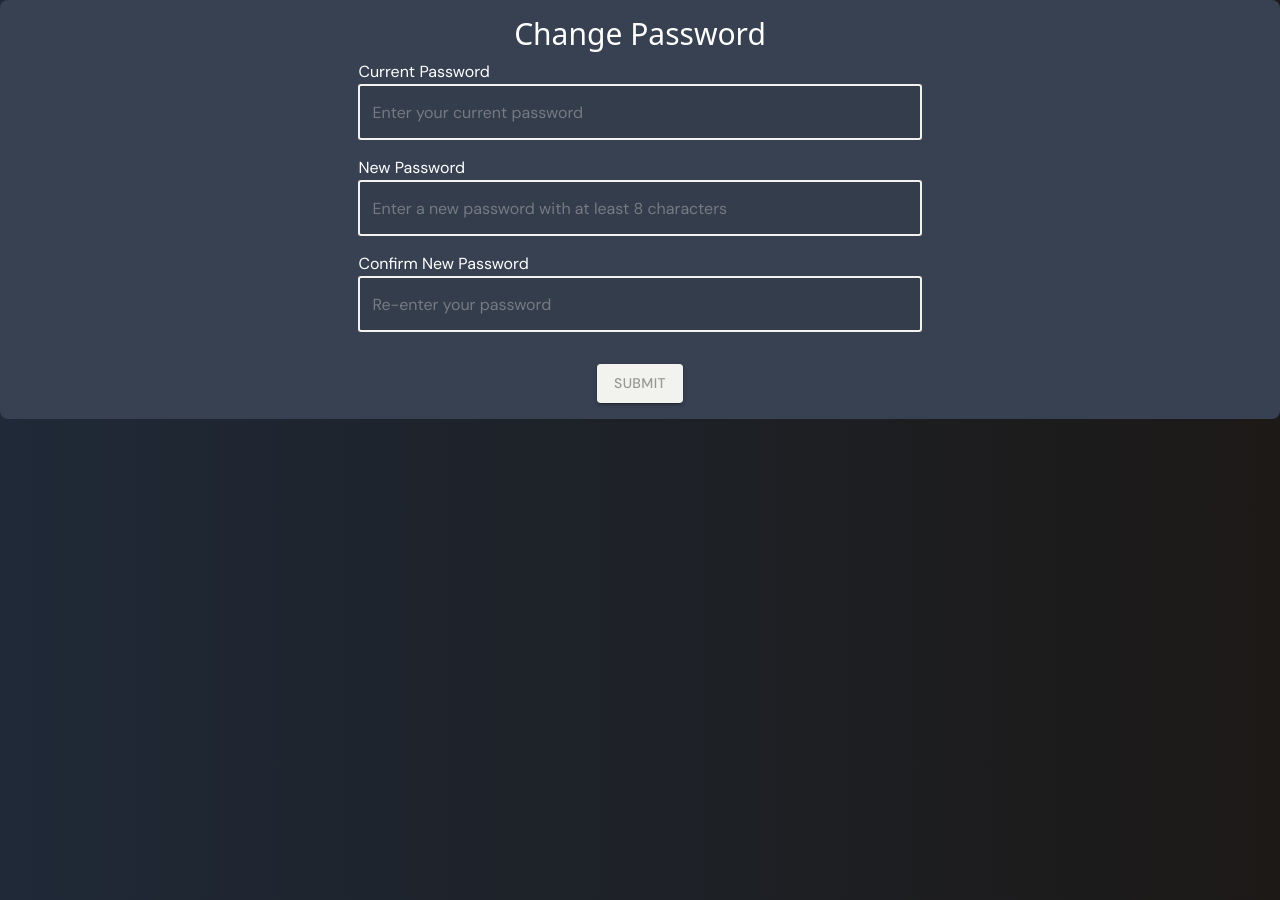
it: ChangePassword › Displays error message when confirm new password does not match with new password
Type "1234678" into the password field labelled "New Password". click: (640, 208)
box: x1=358 y1=180 x2=922 y2=236
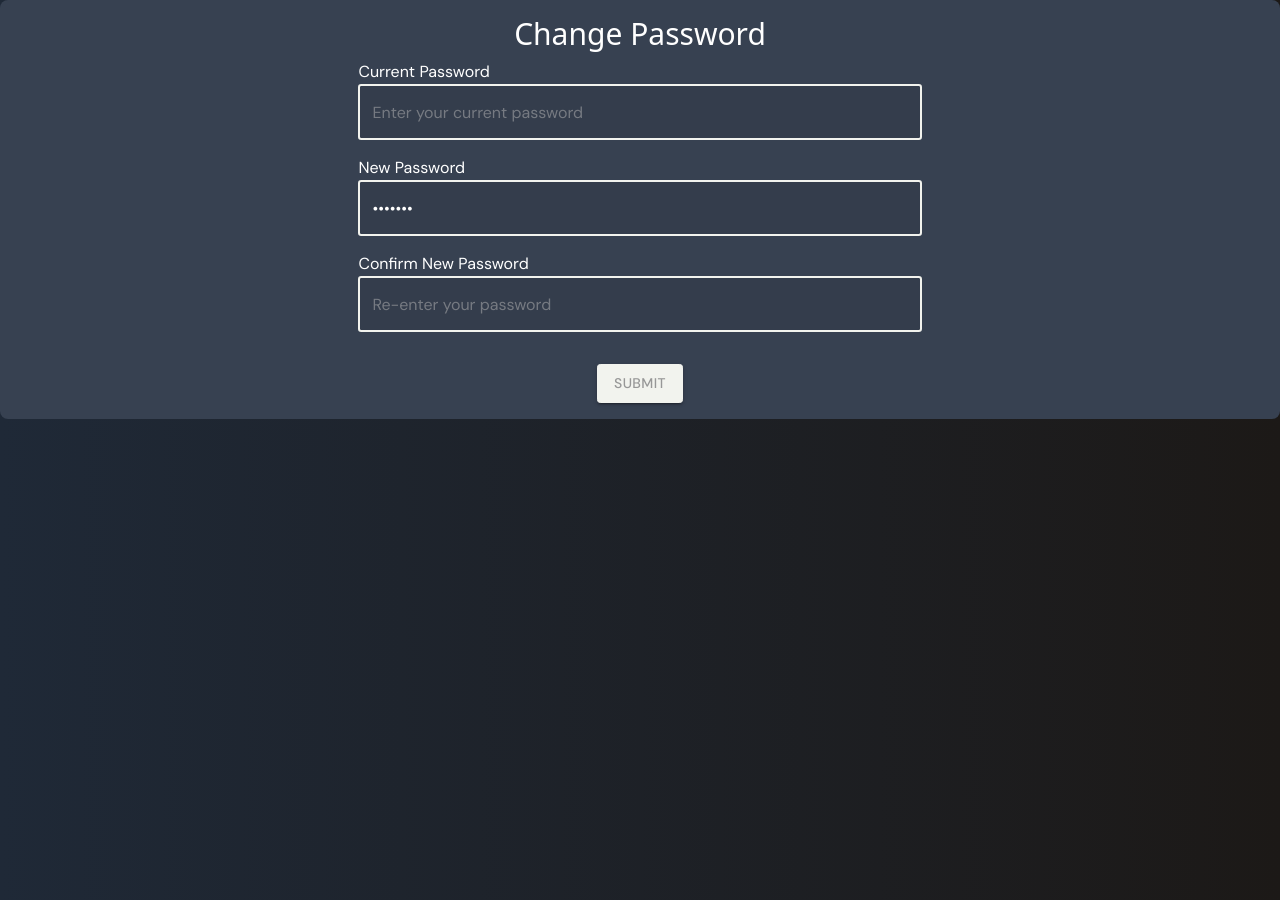
Type "67890123" into the password field labelled "Confirm New Password". click: (640, 304)
box: x1=358 y1=276 x2=922 y2=332
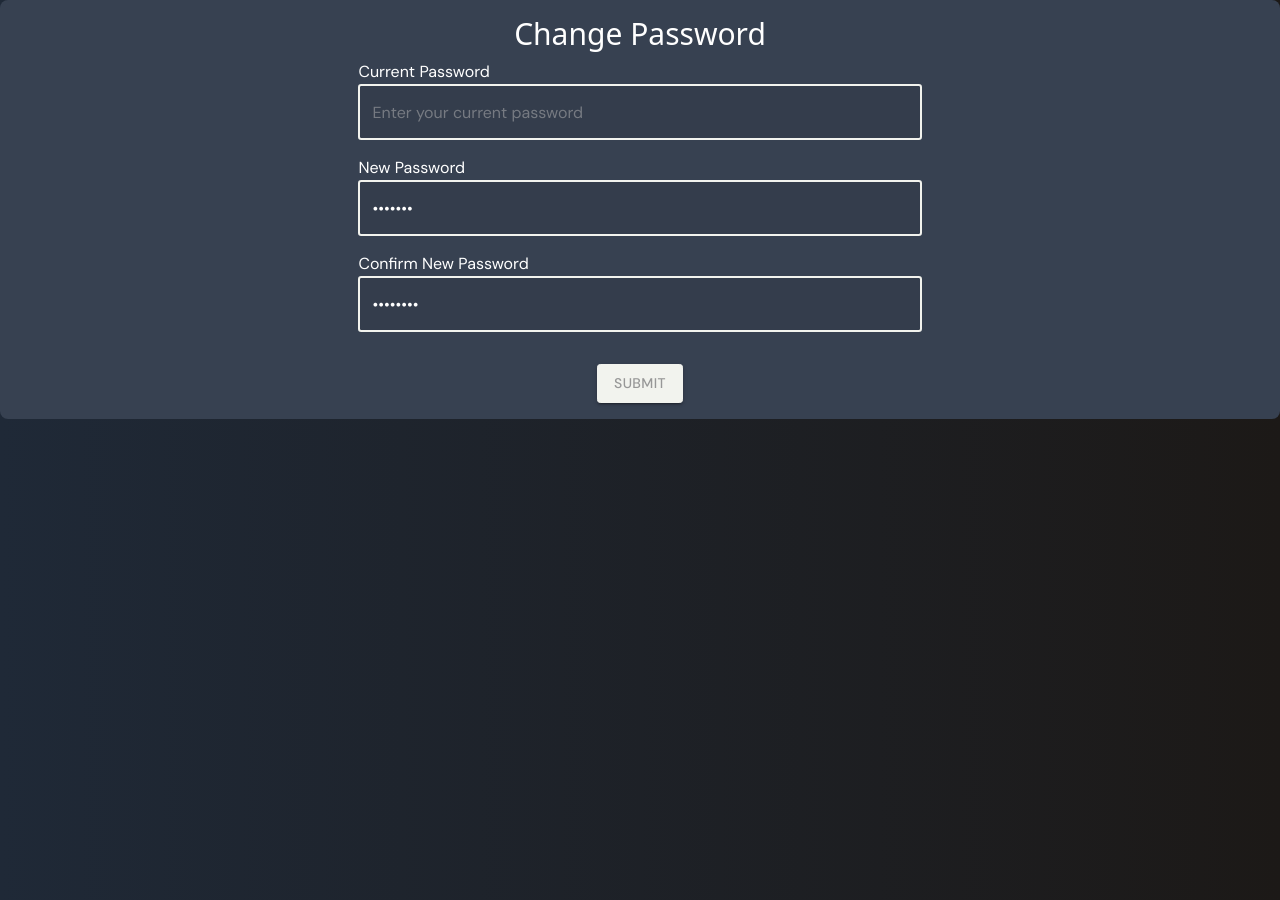
Leave the password field labelled "Confirm New Password", box x1=358 y1=276 x2=922 y2=332
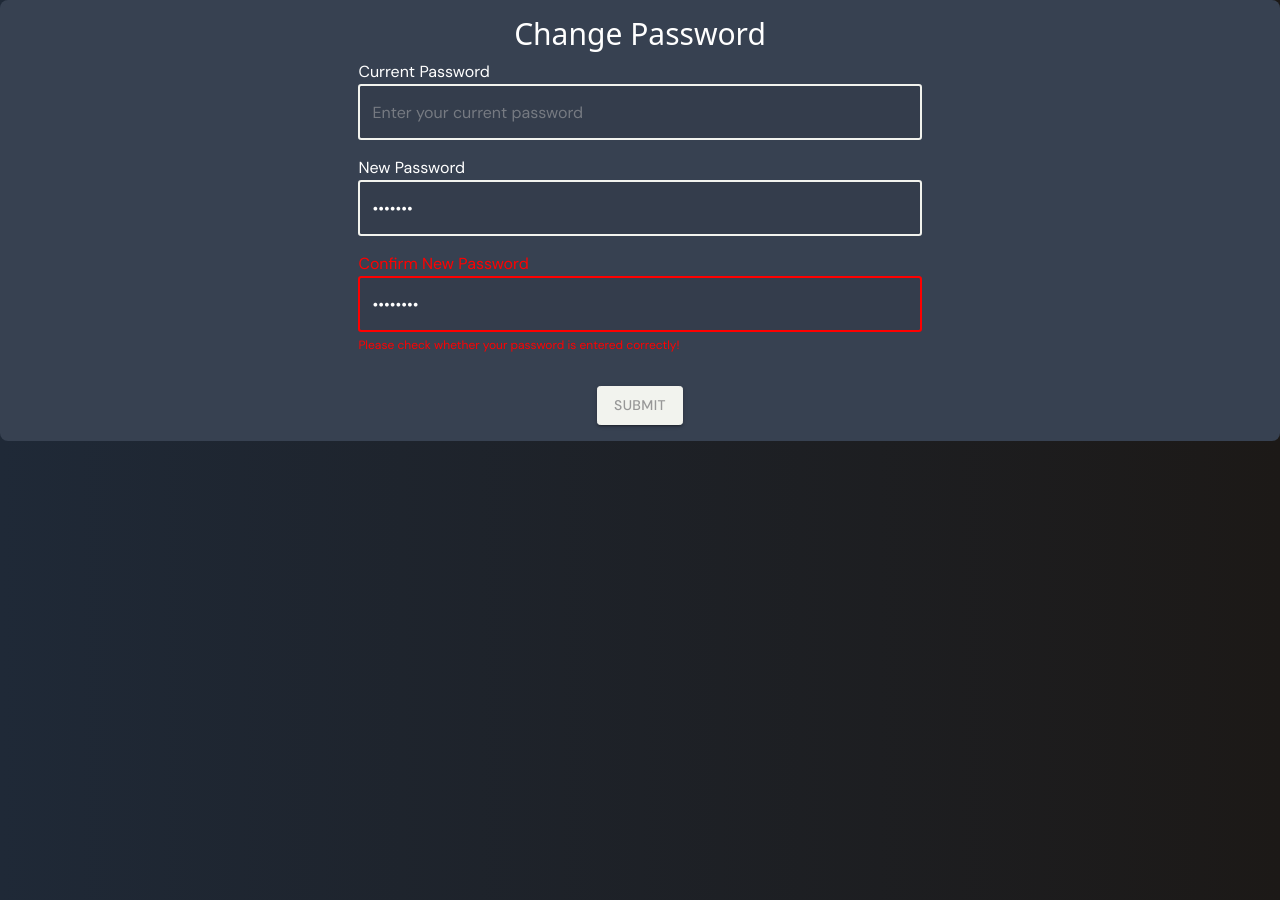
Now the text "Please check whether your password is entered correctly!" is shown, box x1=358 y1=337 x2=680 y2=353
